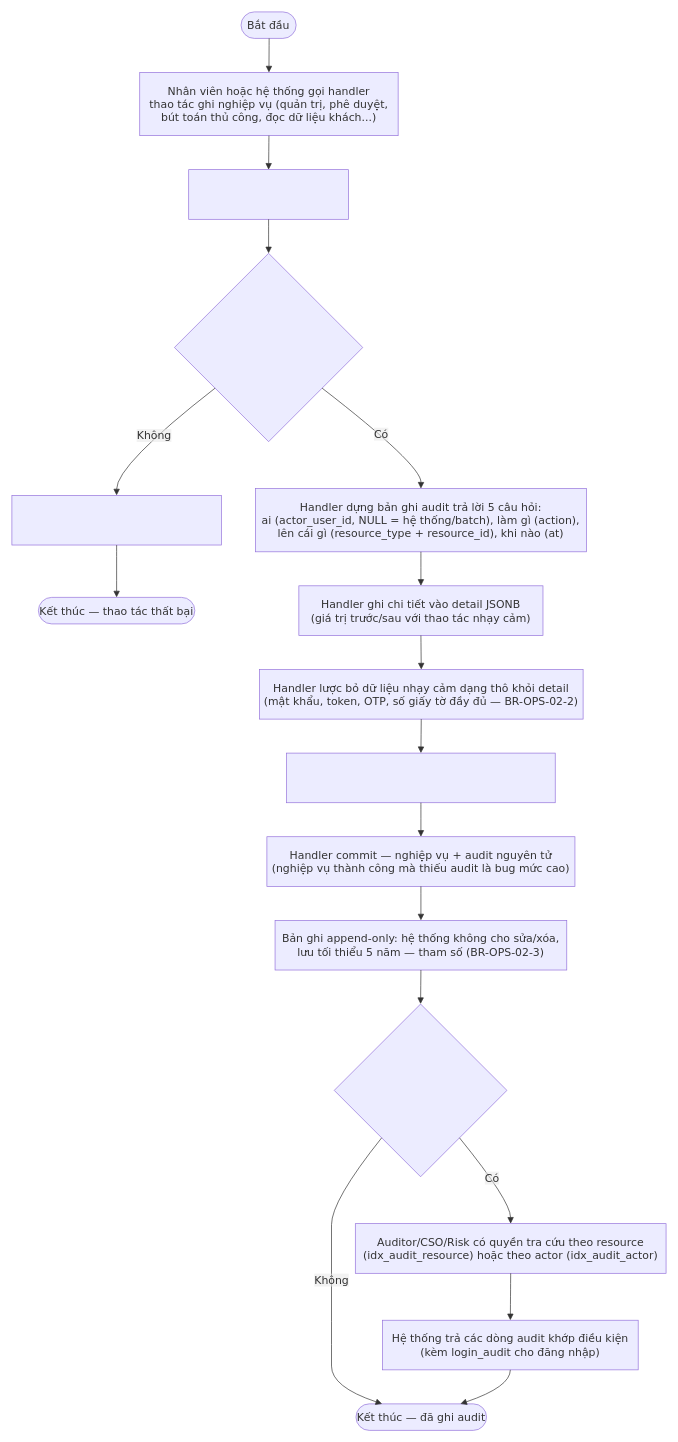
Some shapes in this 678 by 1442 pixel diagram are drawn without their labels. The shapes that lost their labels are listed below. From the top down, each one's centre as x and y in pixels, then its label:
(268,194): Handler mở transaction, thực hiện nghiệp vụ
(268,347): Nghiệp vụ thành công?
(116,520): Handler rollback transaction (không có dữ liệu, không có audit)
(420,777): Handler ghi dòng audit_log CÙNG transaction với nghiệp vụ (BR-OPS-02-1)
(420,1090): Có nhu cầu điều tra?
